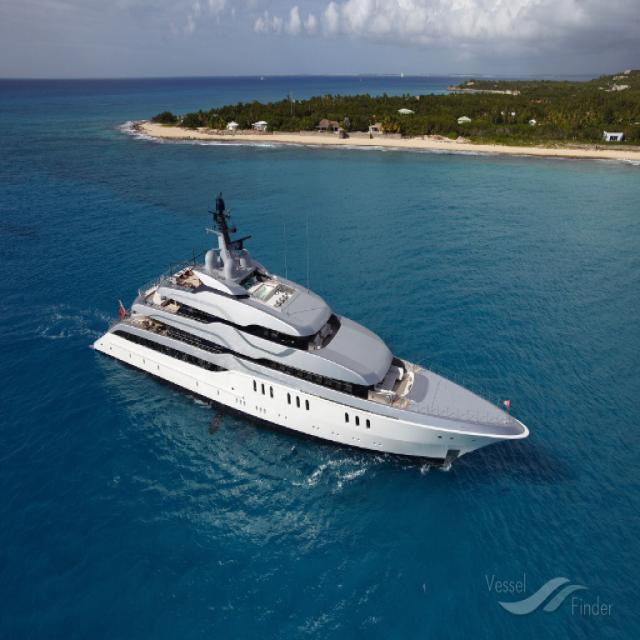Yacht: (102, 196, 527, 472)
